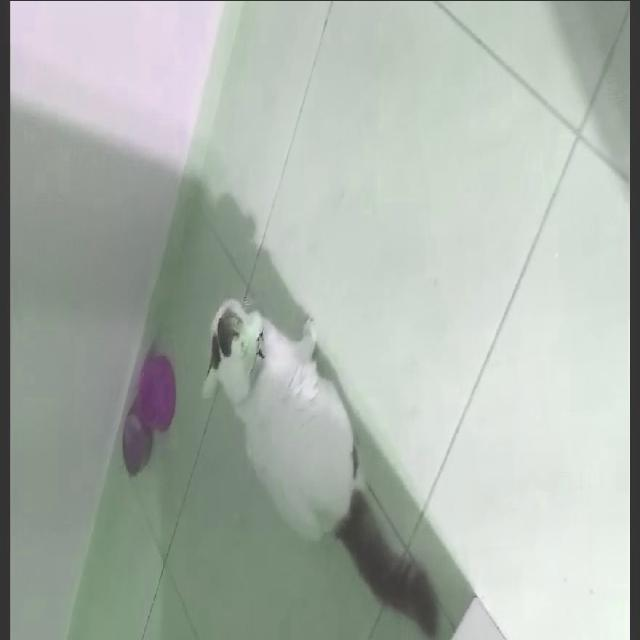Simba: (197, 287, 431, 558)
